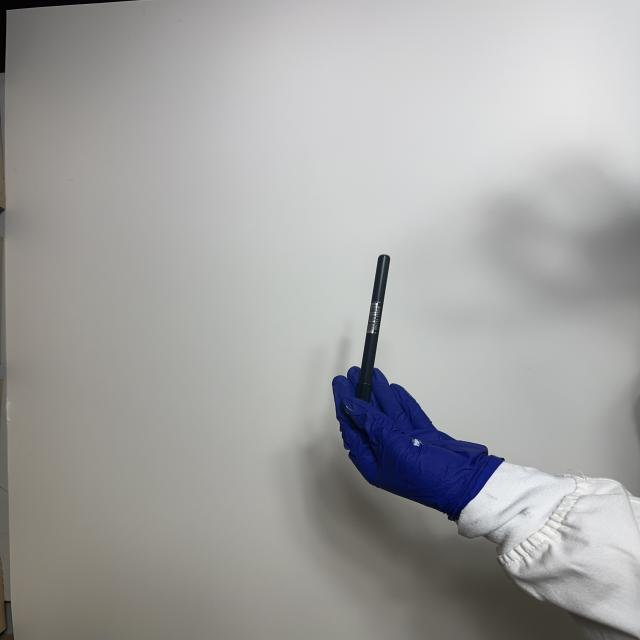gloves_contaminated: (333, 367, 502, 519)
